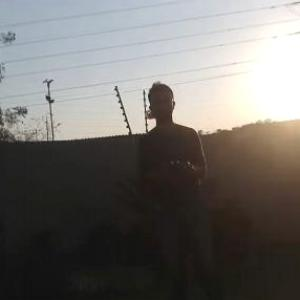follow: (133, 75, 211, 299)
